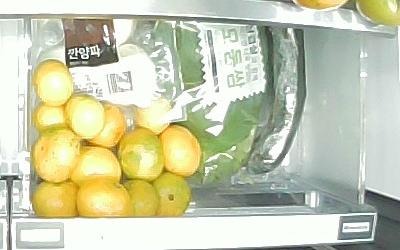tangerine: (30, 129, 78, 183), (117, 127, 163, 181), (76, 177, 133, 218), (158, 125, 201, 176), (67, 146, 123, 184), (34, 59, 74, 105), (84, 101, 124, 147), (65, 94, 105, 139), (30, 181, 78, 218), (154, 172, 191, 218), (120, 179, 159, 217), (32, 101, 73, 134)
tangerine_vinyl: (133, 96, 172, 137)
